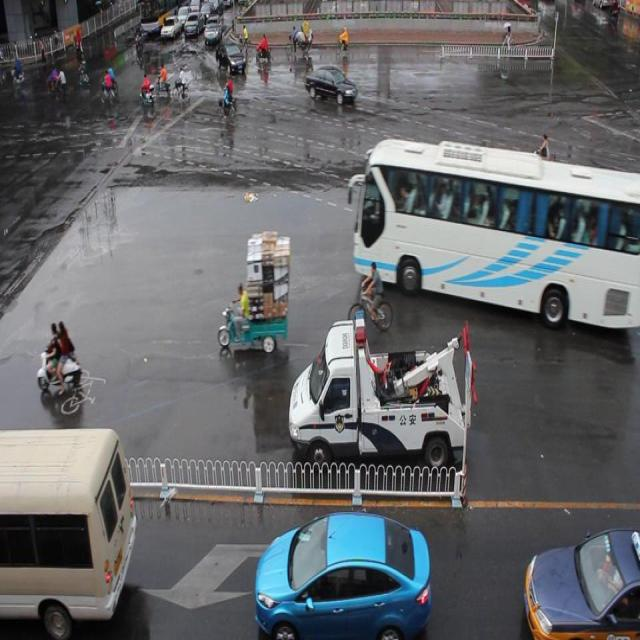bus: (288, 308, 474, 475)
car: (255, 512, 430, 640), (522, 522, 640, 640), (304, 62, 356, 105), (216, 42, 246, 77)
truck: (0, 426, 136, 640)
van: (347, 138, 640, 330)
